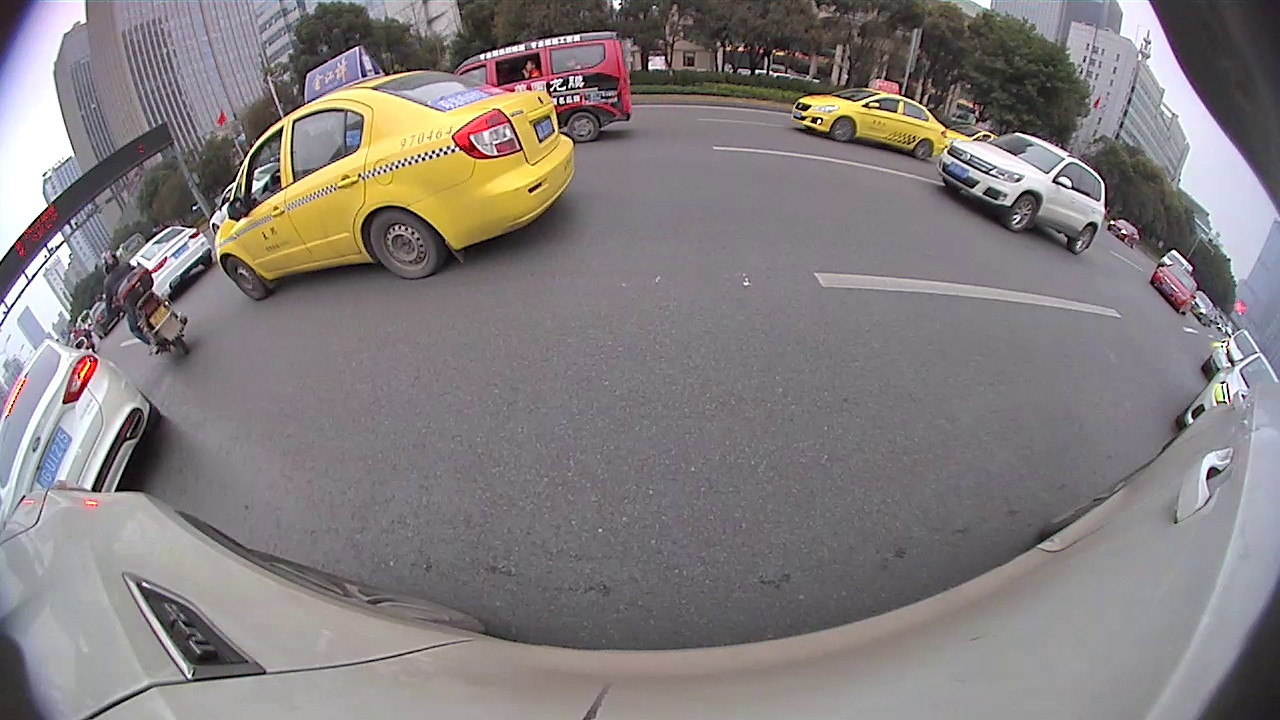car: (217, 47, 572, 300), (1, 340, 143, 498), (941, 133, 1103, 256), (457, 33, 631, 138), (789, 81, 941, 160), (1178, 353, 1278, 428), (137, 228, 210, 298), (1151, 261, 1198, 315)
front: (223, 255, 270, 300), (1009, 192, 1037, 235), (831, 117, 858, 143)
rear: (366, 208, 442, 280), (566, 109, 601, 144), (1072, 225, 1096, 253), (915, 138, 935, 163)
rider: (98, 253, 192, 358)
